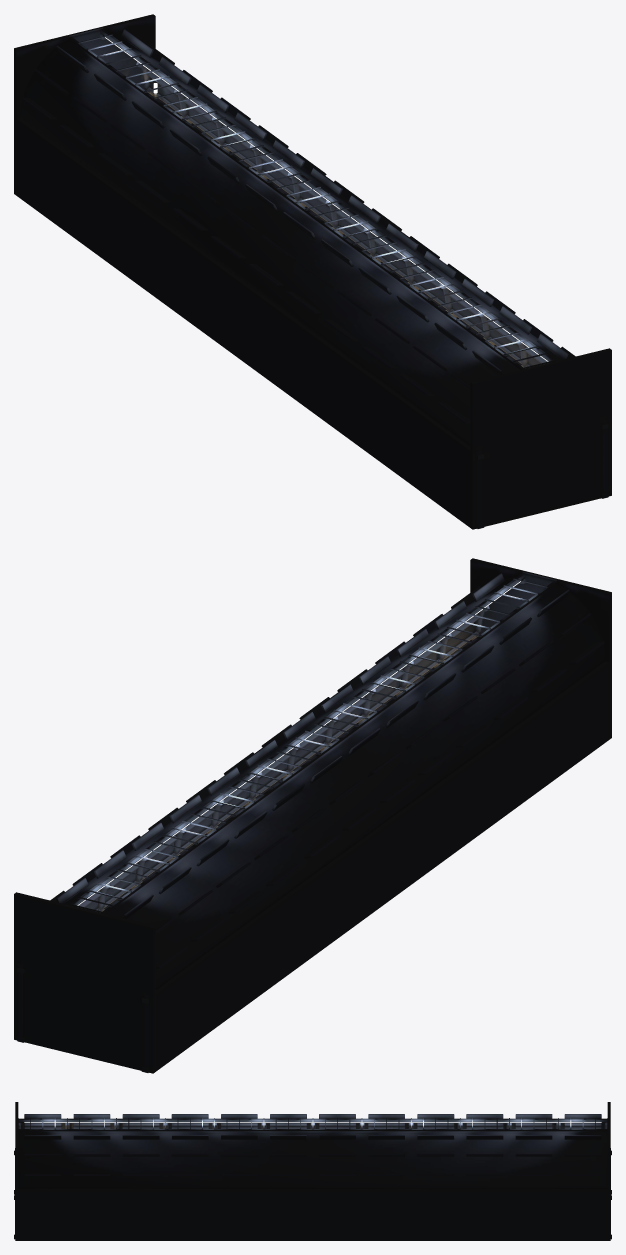
Rendered from gallery.glb.
3 renders of one model, top to bottom at view 1: azimuth 30°, elevation 25°; view 2: azimuth 150°, elevation 25°; view 3: azimuth 270°, elevation 25°, orthographic. The views are drawn at different scales.
Parts seen in each view (by area): view 1: GALLERY; view 2: GALLERY; view 3: GALLERY, EMISSIVE.
Part boxes in pixels (x1,y1,x2,y2): GALLERY: (14,14,611,529); GALLERY: (14,558,611,1073); GALLERY: (14,1102,611,1240); EMISSIVE: (24,1122,601,1122).
Bounding box in the file's own units: 17 × 17.36 × 97.4.
5 materials, 1 textured.
